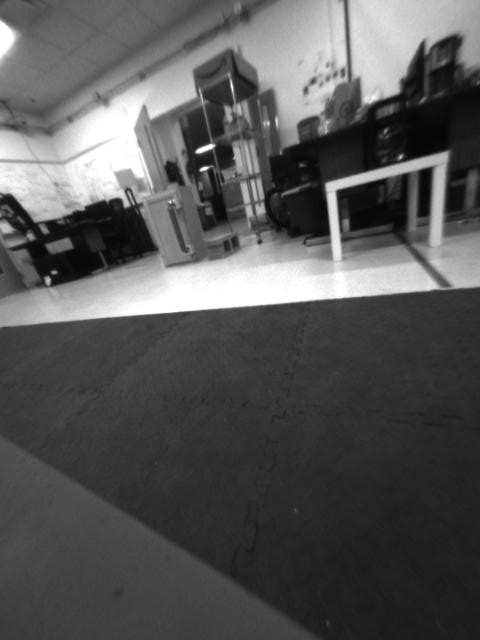coffee_pot: (362, 95, 412, 167)
